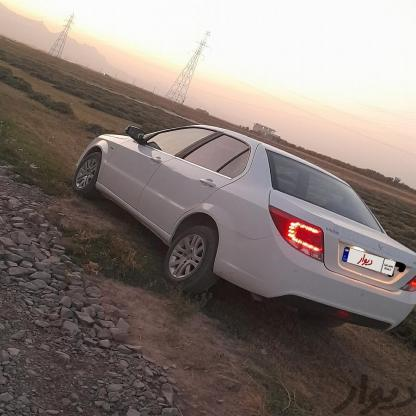Car: (57, 115, 416, 338)
